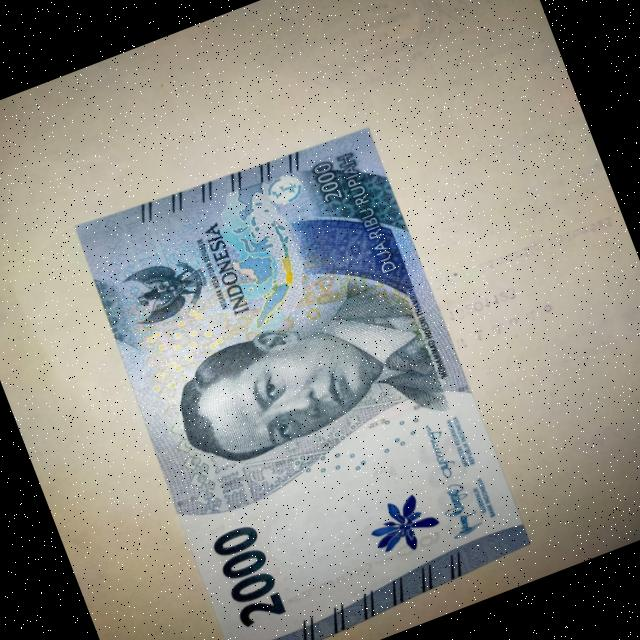2K: (54, 84, 582, 640)
